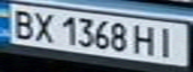1: (54, 12, 78, 46)
3: (75, 16, 96, 48)
6: (90, 17, 112, 52)
8: (109, 20, 133, 53)
B: (6, 7, 39, 39)
H: (130, 21, 160, 56)
I: (154, 25, 184, 58)
X: (30, 9, 57, 43)
